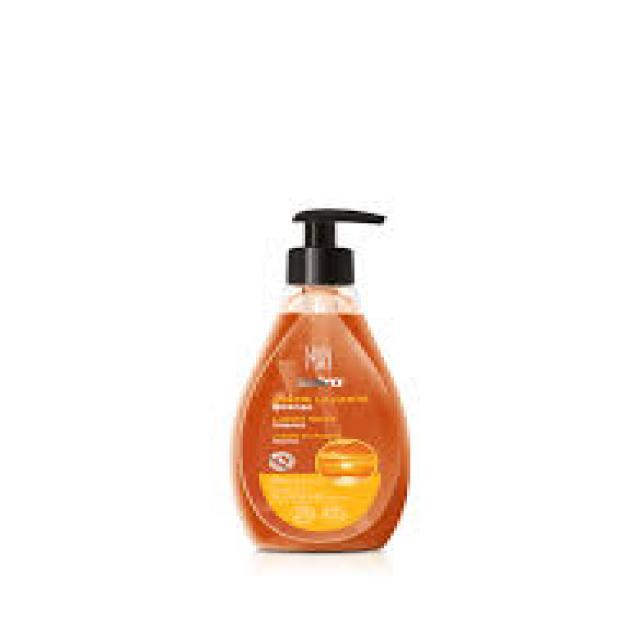liquid soap: (230, 195, 422, 563)
